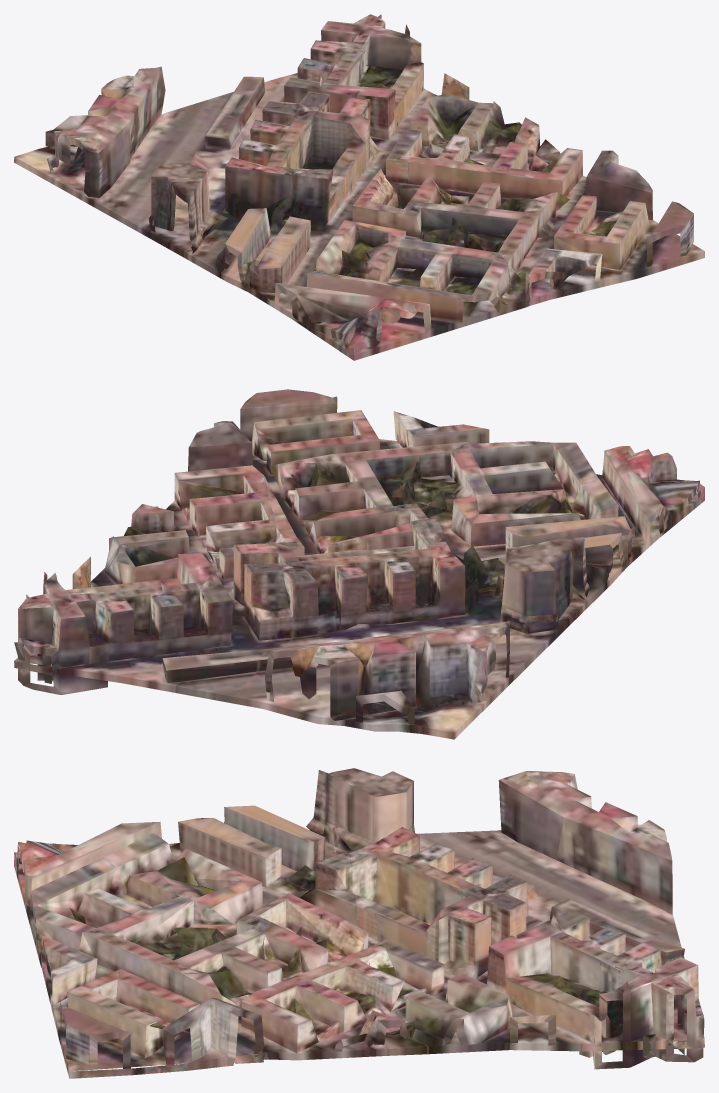
3 views of the same model, one above another, from view 1: azimuth 30°, elevation 25°; view 2: azimuth 150°, elevation 25°; view 3: azimuth 270°, elevation 25° (orthographic). The views are drawn at different scales.
Visible parts, largest first — view 1: Mesh_0; view 2: Mesh_0; view 3: Mesh_0.
Boxes of the visible parts, x1,y1,x2,y2 form: Mesh_0: (14,14,704,360); Mesh_0: (14,389,704,739); Mesh_0: (14,768,704,1078).
Size of the model in its own units: 266 by 55.8 by 330.
2 materials, 2 textured.
